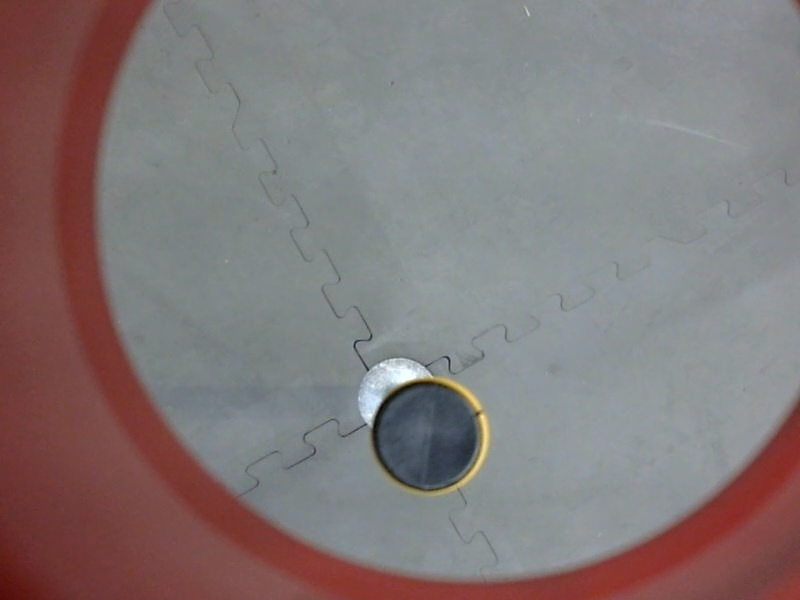tip: (364, 373, 494, 500)
